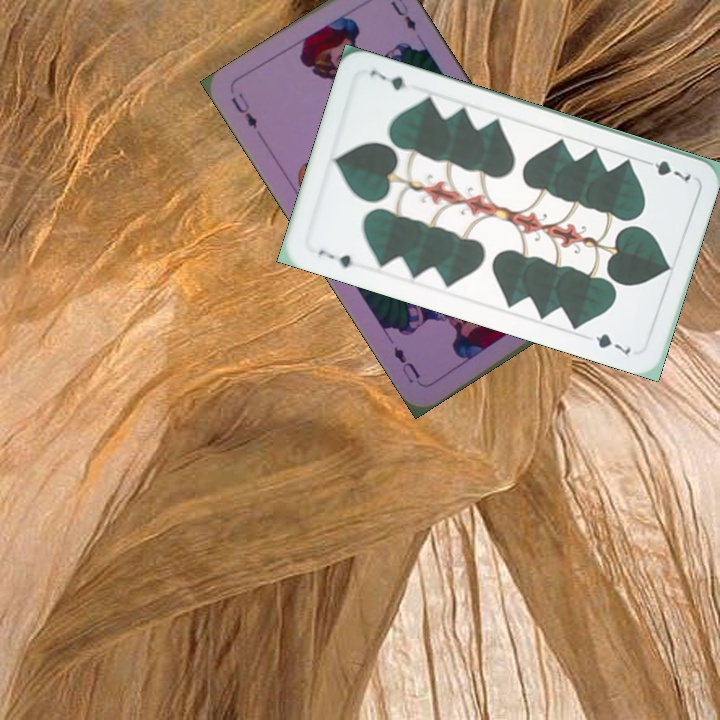EU: (227, 89, 260, 132)
G7: (638, 155, 694, 185), (314, 245, 356, 271)
